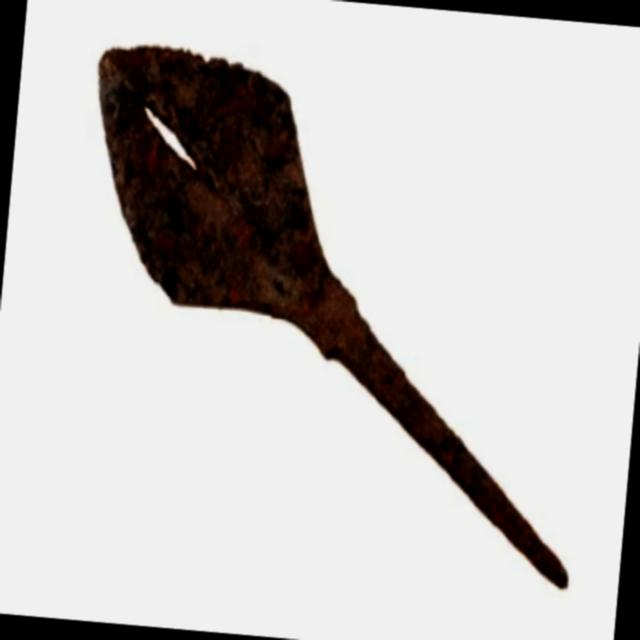spear: (41, 21, 628, 615)
